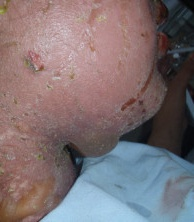SJS-TEN: (0, 164, 70, 222), (15, 46, 55, 82)
